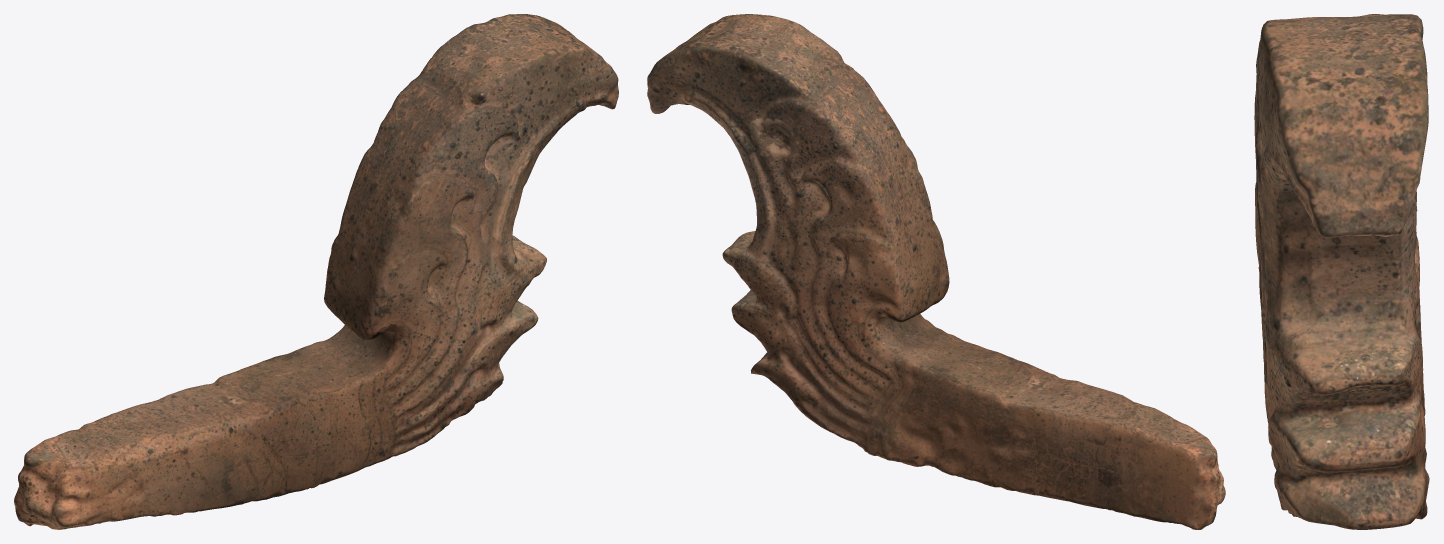
Rendered from MysonMuseum_hoatiethoaco_final.glb.
3 views of the same model, side by side, from view 1: azimuth 30°, elevation 25°; view 2: azimuth 150°, elevation 25°; view 3: azimuth 270°, elevation 25° (orthographic). The views are drawn at different scales.
Size of the model in its own units: 0.3394 by 0.2144 by 0.0577.
Materials: 1 (1 with a texture image).
